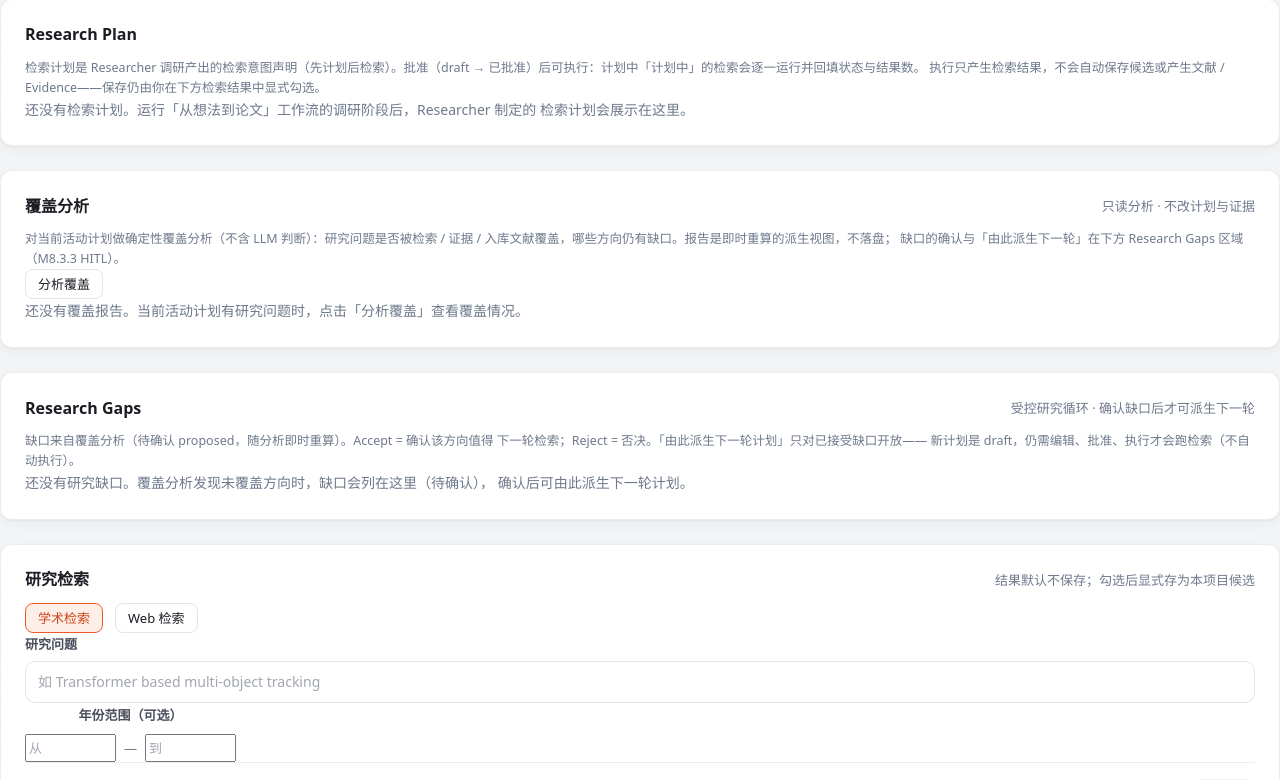
DiscoveryPanel（M7.1c Discovery 候选 UI） › 学术检索：payload 携带 query 与年份范围（默认不持久化）
Step 1. Type "transformer multi-object tracking" into the field labelled "研究问题" → coordinates (640, 682), box [25, 661, 1255, 703]
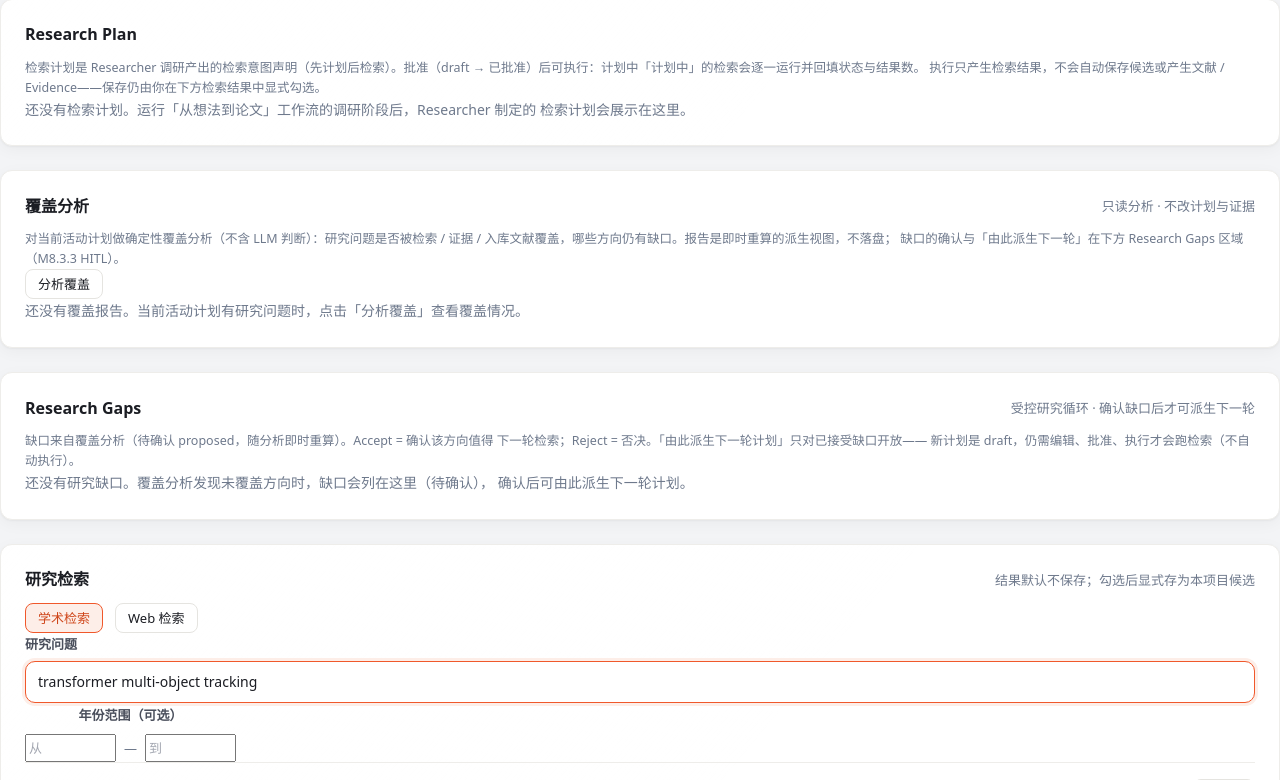
Step 2. Type "2020" into the number field labelled "年份范围（可选）" → coordinates (70, 748), box [25, 734, 116, 762]
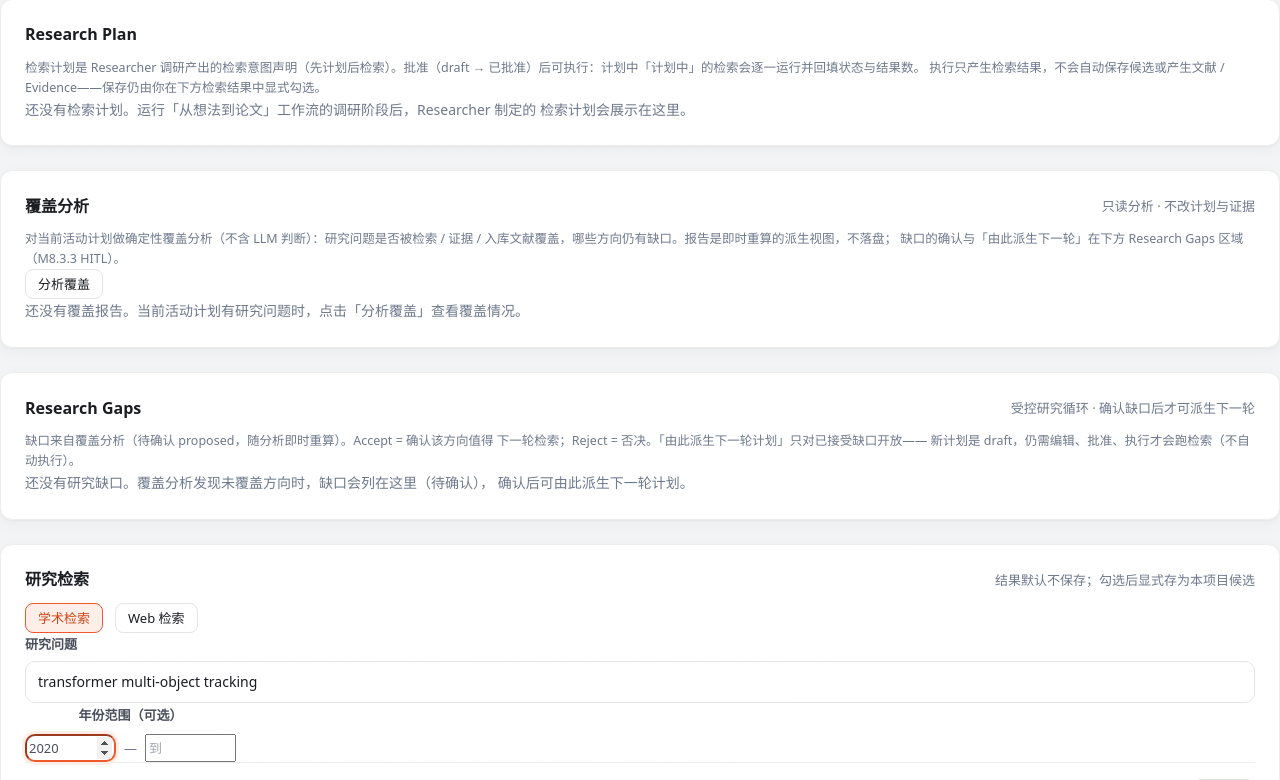
Step 3. Type "2024" into the number field named "结束年份" → coordinates (190, 748), box [145, 734, 236, 762]
(page scrolled)
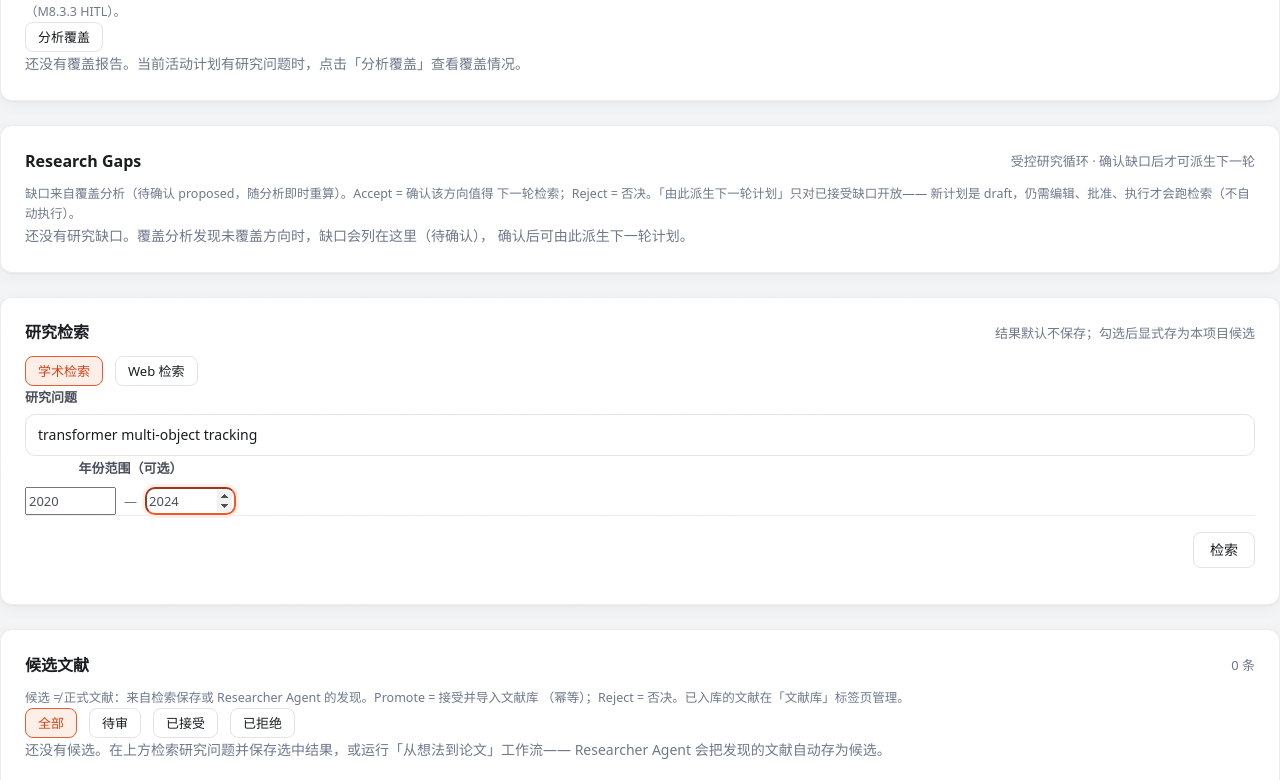
Step 4. Click the button "检索" → coordinates (1224, 550), box [1193, 532, 1255, 568]
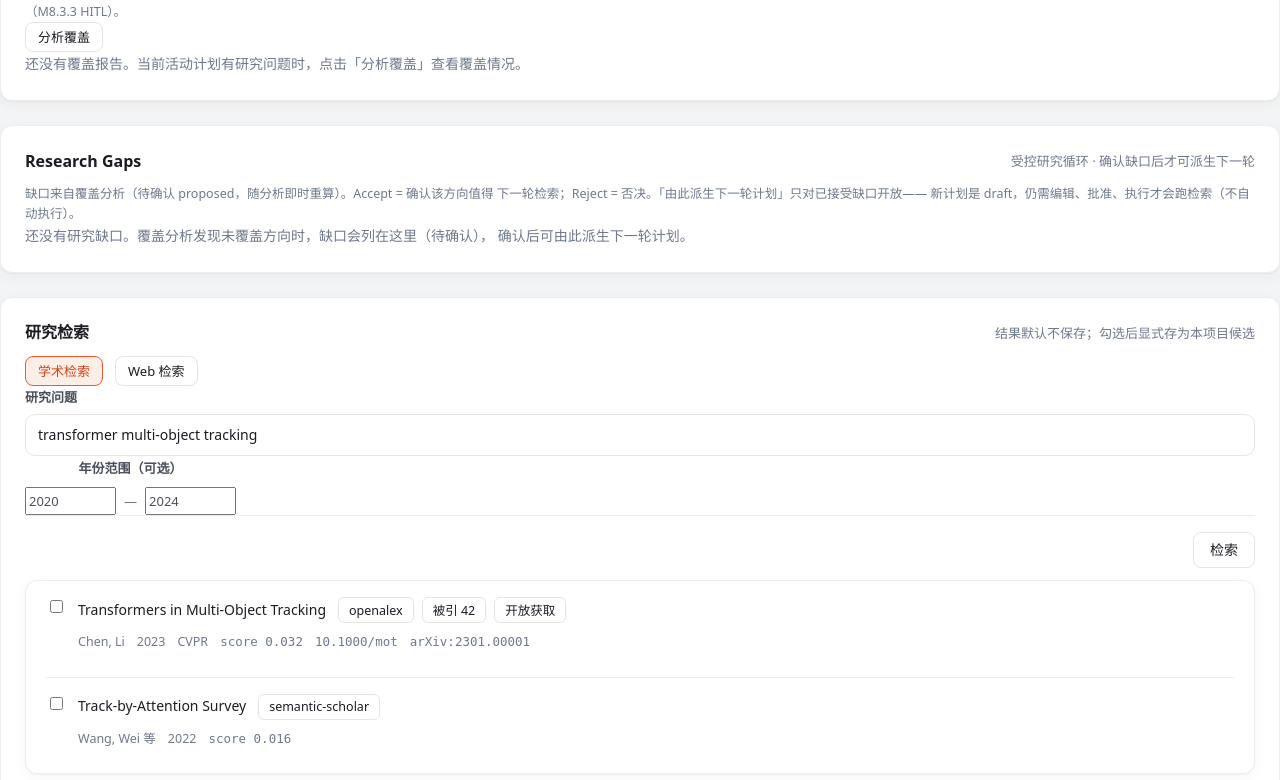
Check: the text "Transformers in Multi-Object Tracking" is shown, box [78, 599, 326, 621]
Check: the text "Track-by-Attention Survey" is shown, box [78, 695, 246, 717]
